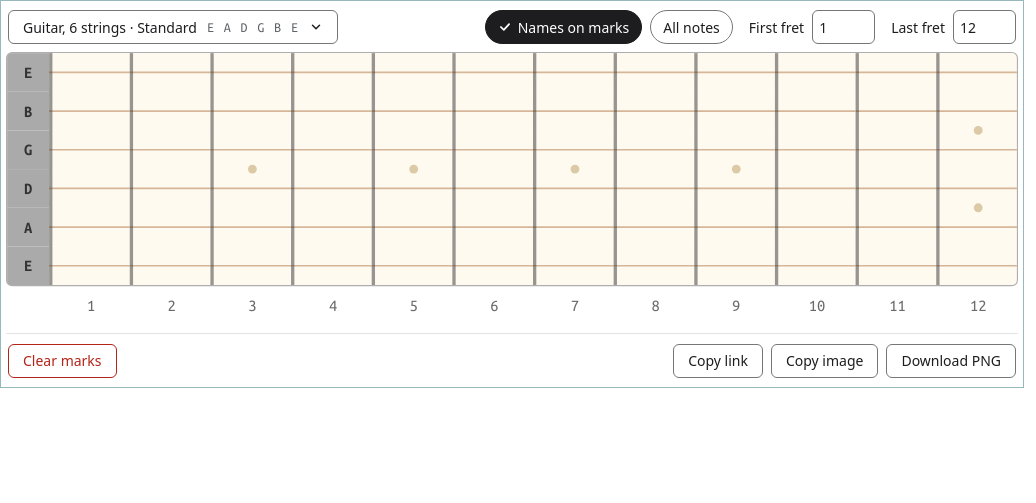
Fretboard › clamps a typed last fret to the allowed range when it loses focus
Replace the text in the number field labelled "Last fret" with "40": (984, 27) [953,10,1016,44]
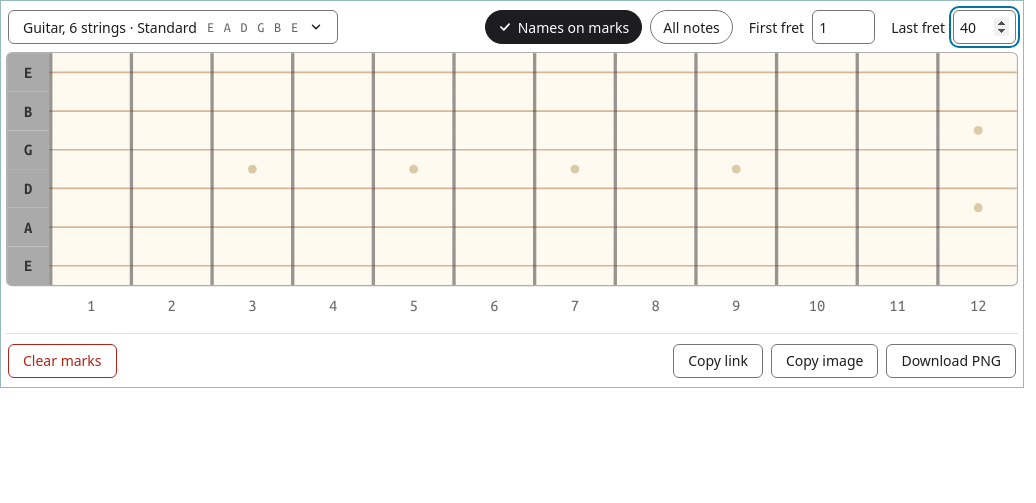
Press Tab
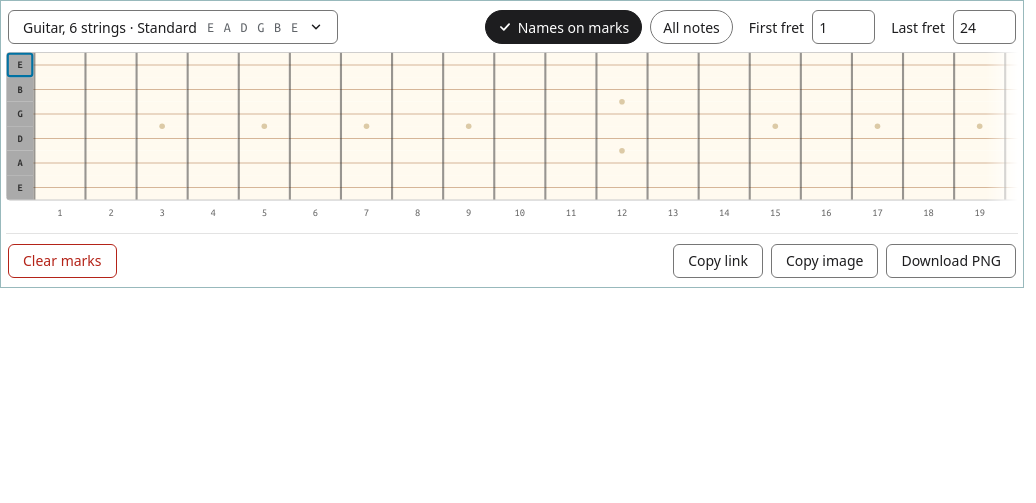
Result: the number field labelled "Last fret" holds "24"
Replace the text in the number field labelled "Last fret" with "2": (984, 27) [953,10,1016,44]
Then press Enter
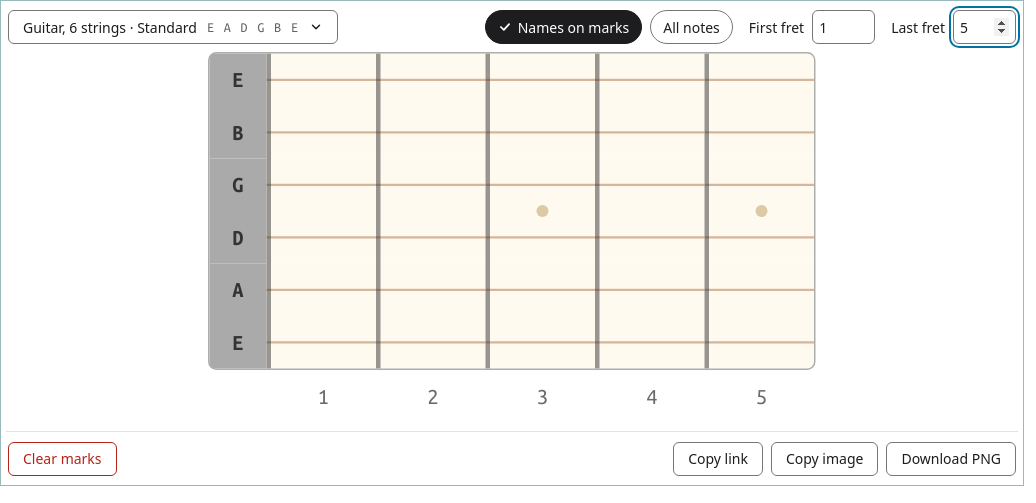
Result: the number field labelled "Last fret" holds "5"
Clear the number field labelled "Last fret": (984, 27) [953,10,1016,44]
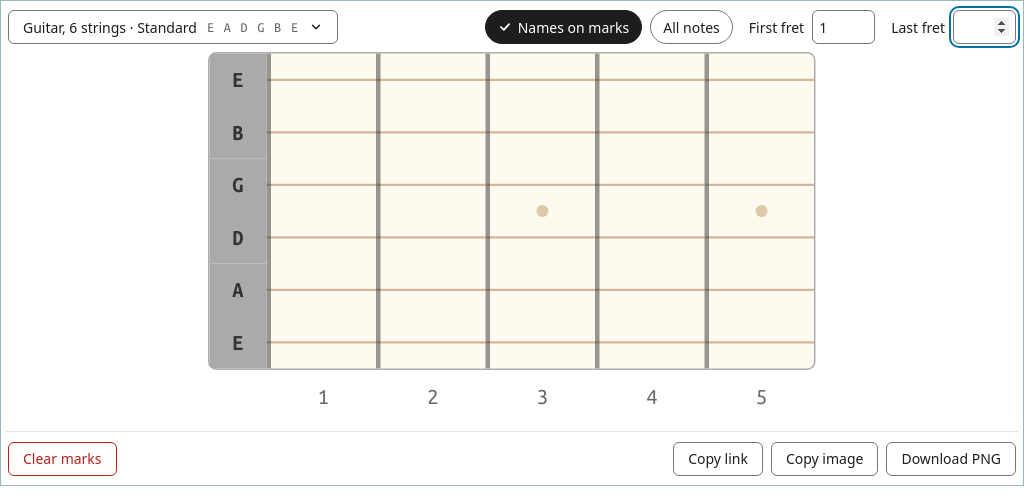
Press Tab
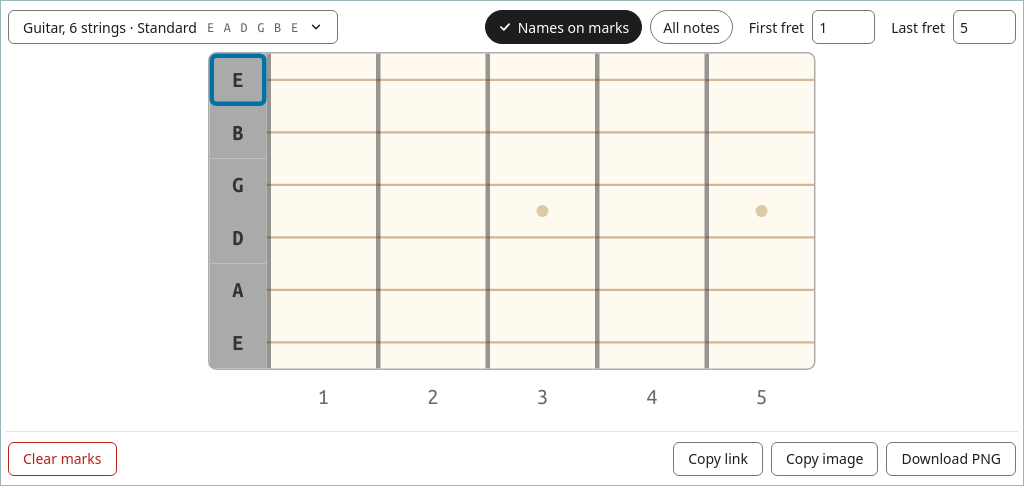
Result: the number field labelled "Last fret" holds "5" at [953,10,1016,44]
